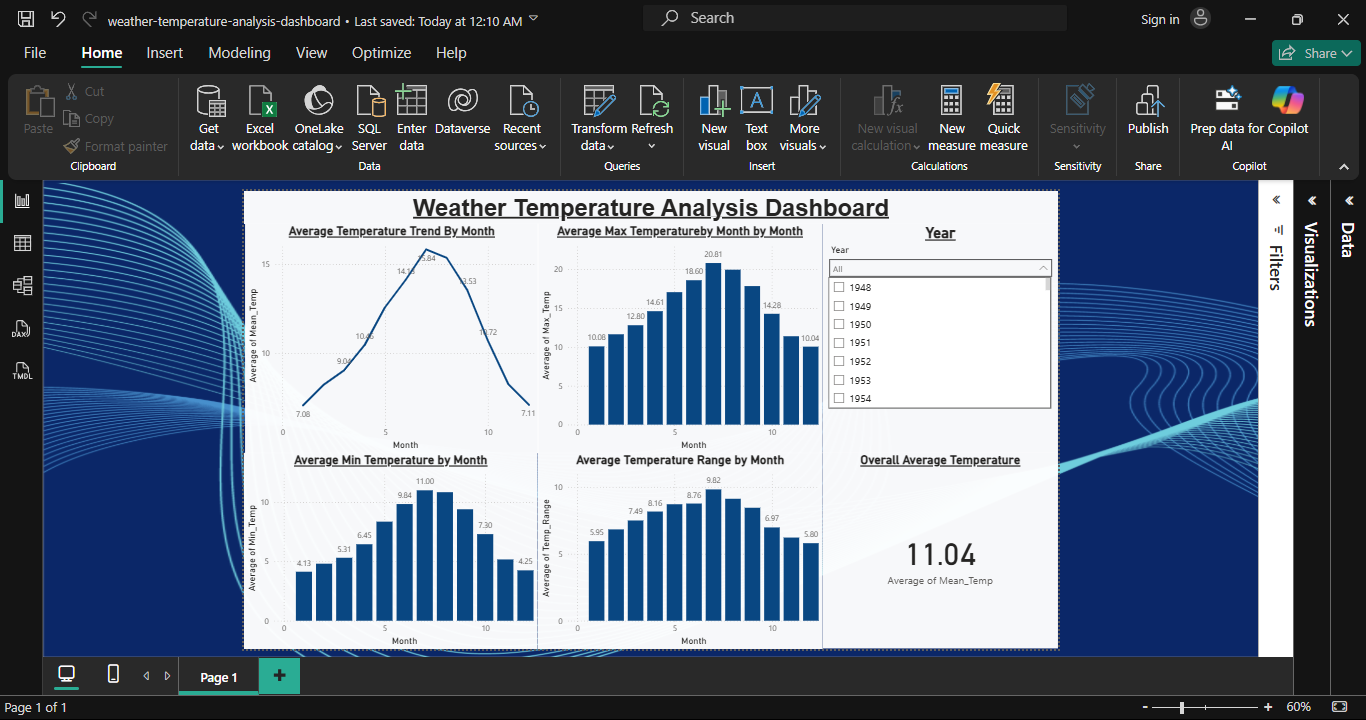

Layout of this report page (visuals, bound fields, positions):
{"tool":"powerbi","page":{"name":"Page 1","canvas":[1280,720],"ordinal":0},"visuals":[{"type":"lineChart","title":"Average Temperature Trend By Month","fields":{"Category":["Sheet1.Month"],"Y":["Avg(Sheet1.Mean_Temp)"]},"box":[0,52,462,360],"z":0},{"type":"clusteredColumnChart","title":"Average  Max Temperatureby Month by Month","fields":{"Category":["Sheet1.Month"],"Y":["Avg(Sheet1.Max_Temp)"]},"box":[462,52,448,360],"z":1000},{"type":"clusteredColumnChart","title":"Average Min Temperature by Month","fields":{"Category":["Sheet1.Month"],"Y":["Avg(Sheet1.Min_Temp)"]},"box":[0,360,462,360],"z":2000},{"type":"card","title":"Overall Average Temperature","fields":{"Values":["Avg(Sheet1.Mean_Temp)"]},"box":[910,412,370,308],"z":3000},{"type":"clusteredColumnChart","title":"Average Temperature Range by Month","fields":{"Category":["Sheet1.Month"],"Y":["Avg(Sheet1.Temp_Range)"]},"box":[462,428,448,292],"z":4000},{"type":"textbox","box":[0,0,1280,52],"z":6000},{"type":"slicer","title":"Year","fields":{"Values":["Sheet1.Year"]},"box":[910,52,370,360],"z":6001}]}

Visuals, with their boxes on the page's 1280x720 design canvas (x1, y1, x2, y2). These are canvas units, not pixel positions in the 1366x720 screenshot, which may show the page scaled, cropped or inside an application window:
"Average Temperature Trend By Month" lineChart: select_region(0, 52, 462, 412)
"Average  Max Temperatureby Month by Month" clusteredColumnChart: select_region(462, 52, 910, 412)
"Average Min Temperature by Month" clusteredColumnChart: select_region(0, 360, 462, 720)
"Overall Average Temperature" card: select_region(910, 412, 1280, 720)
"Average Temperature Range by Month" clusteredColumnChart: select_region(462, 428, 910, 720)
textbox: select_region(0, 0, 1280, 52)
"Year" slicer: select_region(910, 52, 1280, 412)
